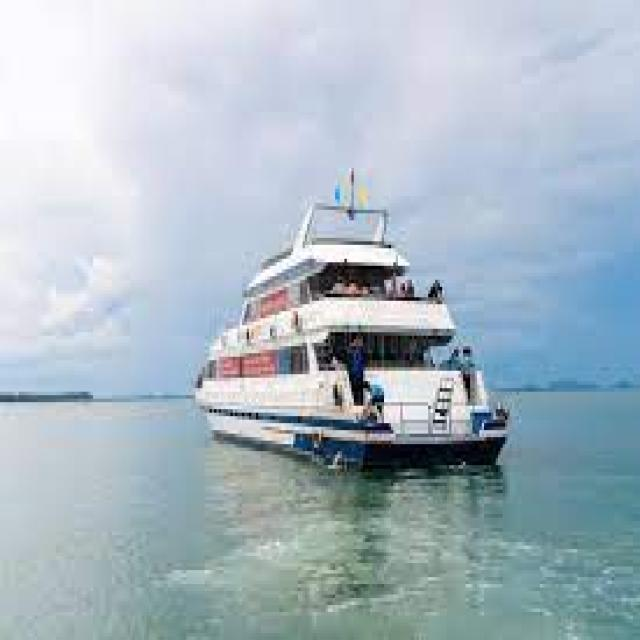houseboat: (189, 179, 509, 469)
